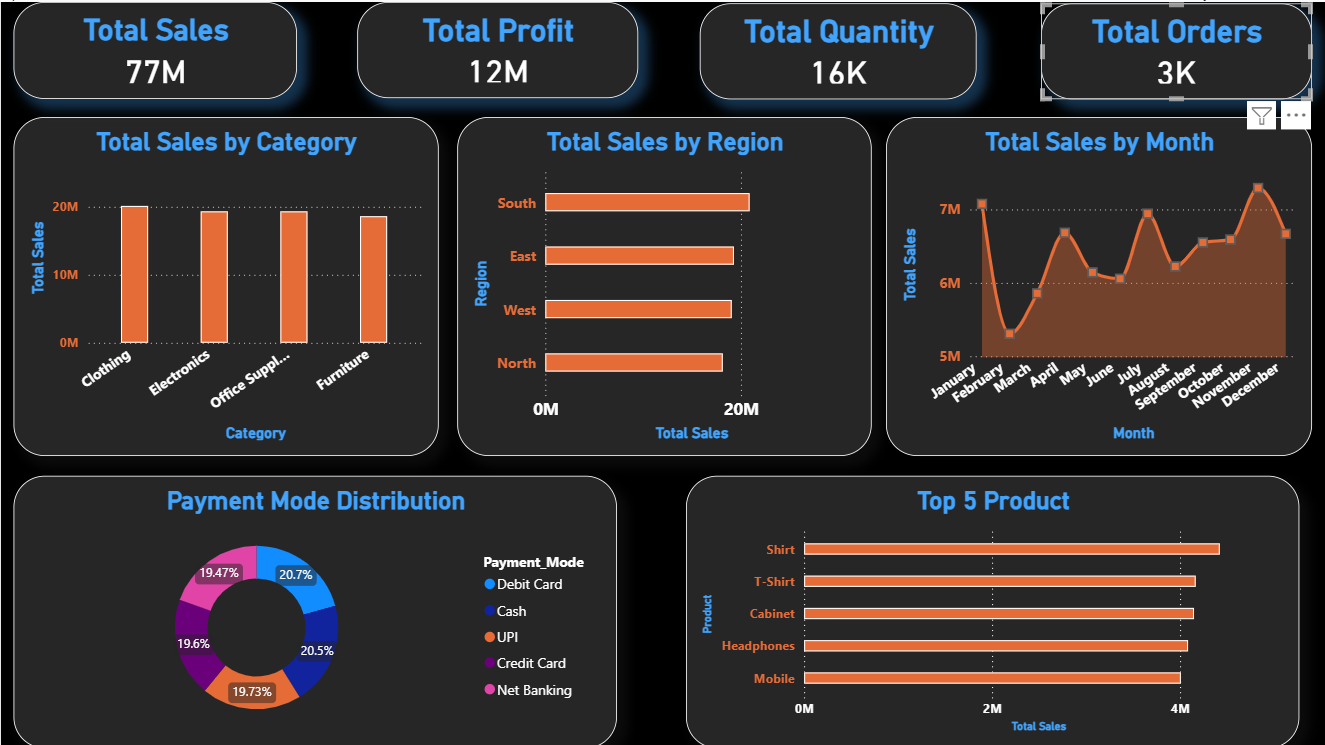

The dashboard page shown, as its layout file describes it:
{"tool":"powerbi","page":{"name":"Page 1","canvas":[1280,720],"ordinal":0},"visuals":[{"type":"card","title":"Total Sales","fields":{"Values":["Sheet1.Total Sales"]},"box":[12.5,0,273.8,93.8],"z":0},{"type":"card","title":"Total Quantity","fields":{"Values":["Sheet1.Total Quantity"]},"box":[675,1.2,267.5,92.5],"z":1000},{"type":"card","title":"Total Orders","fields":{"Values":["Sheet1.Total Orders"]},"box":[1003.8,1.2,261.2,92.5],"z":2000},{"type":"card","title":"Total Profit","fields":{"Values":["Sheet1.Total Profit"]},"box":[343.8,0,271.2,92.5],"z":3000},{"type":"lineClusteredColumnComboChart","fields":{"Category":["Sheet1.Category"],"Y":["Sheet1.Total Sales"]},"box":[12.5,111.2,410,327.5],"z":4000},{"type":"clusteredBarChart","fields":{"Y":["Sheet1.Total Sales"],"Category":["Sheet1.Region"]},"box":[440,111.2,400,327.5],"z":5000},{"type":"lineChart","fields":{"Y":["Sheet1.Total Sales"],"Category":["Sheet1.Order_Date.Variation.Date Hierarchy.Month"]},"box":[853.8,111.2,411.2,327.5],"z":6000},{"type":"donutChart","title":"Payment Mode Distribution","fields":{"Category":["Sheet1.Payment_Mode"],"Y":["Sheet1.Total Orders"]},"box":[12.1,457.2,582.7,263],"z":7000},{"type":"clusteredBarChart","title":"Top 5 Product","fields":{"Y":["Sheet1.Total Sales"],"Category":["Sheet1.Product"]},"box":[661.1,457.2,592.4,263],"z":8000}]}

Visuals, with their boxes in screenshot pixels (x1, y1, x2, y2), scaled from the page's 1280x720 canvas onto the 1325x745 screenshot:
"Total Sales" card: (13,0,296,97)
"Total Quantity" card: (699,1,976,97)
"Total Orders" card: (1039,1,1309,97)
"Total Profit" card: (356,0,637,96)
lineClusteredColumnComboChart - Sheet1.Category x Sheet1.Total Sales: (13,115,437,454)
clusteredBarChart - Sheet1.Total Sales x Sheet1.Region: (455,115,870,454)
lineChart - Sheet1.Total Sales x Sheet1.Order_Date.Variation.Date Hierarchy.Month: (884,115,1309,454)
"Payment Mode Distribution" donutChart: (13,473,616,744)
"Top 5 Product" clusteredBarChart: (684,473,1298,744)
